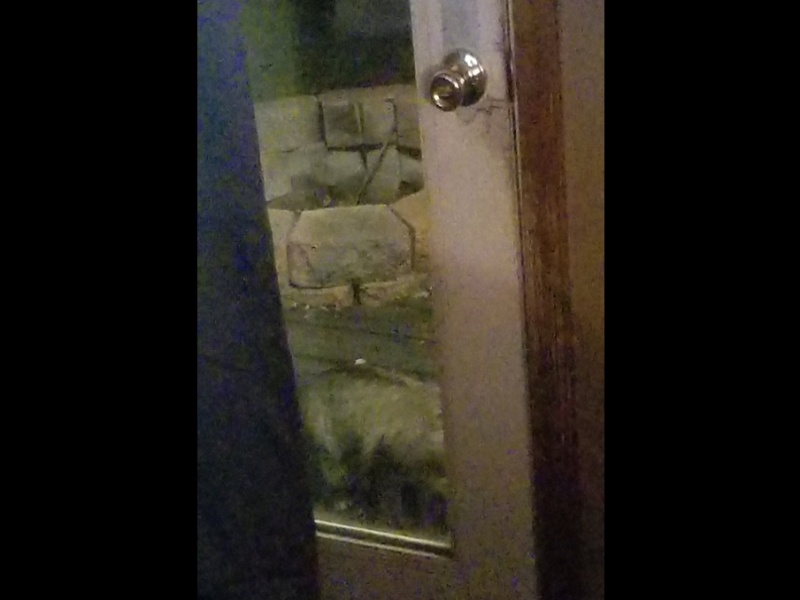cat: (295, 366, 453, 530)
